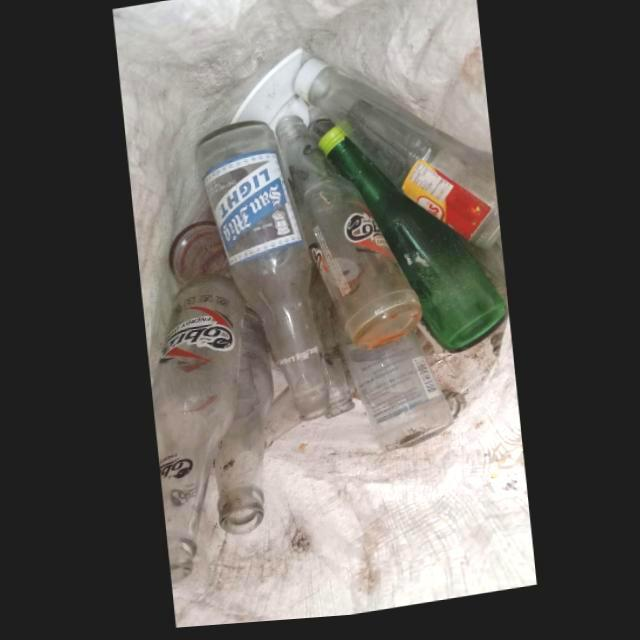glass_bottle: (318, 129, 508, 359), (294, 62, 501, 254), (196, 124, 327, 422), (275, 118, 422, 354), (150, 277, 240, 588), (326, 298, 453, 460), (212, 295, 271, 541), (308, 275, 354, 426)
